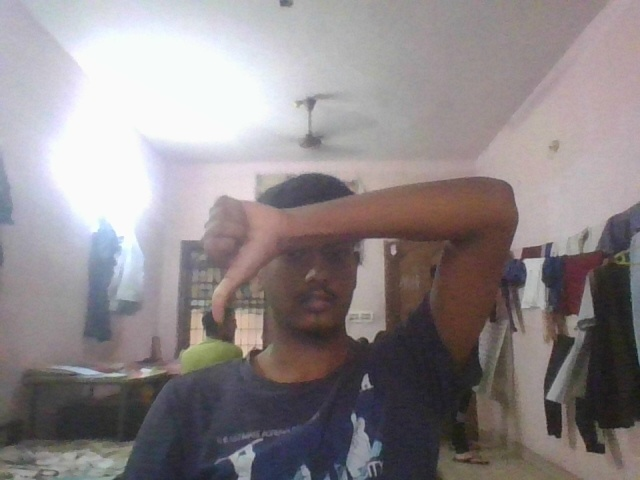thumbsdown: (193, 189, 295, 329)
